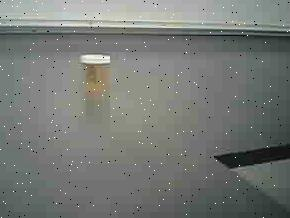Bottle B: (74, 50, 120, 104)
